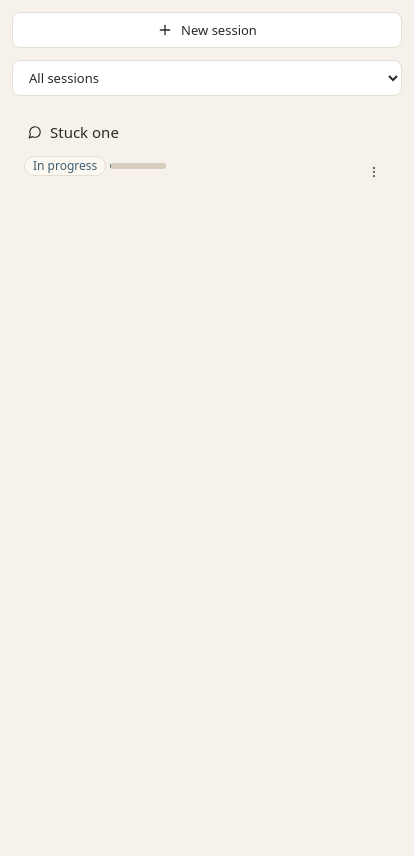
Test: Sessions › offers "Try again" on RE-OPENING a session that ended on the user's message (05 §4.1)
Click the button "Stuck one" at coordinates (84, 132), box left=16, top=112, right=398, bottom=152
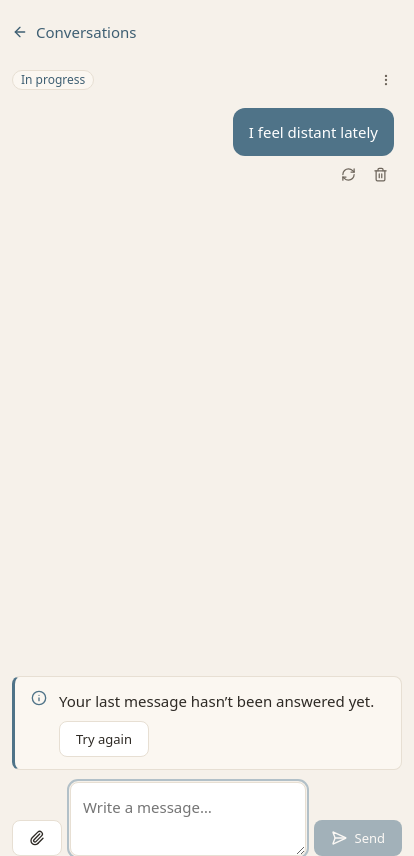
Expected: the text "Your last message hasn’t been answered yet." is shown, left=59, top=689, right=374, bottom=713
Click the button "Try again" at coordinates (104, 739), box left=59, top=721, right=149, bottom=757
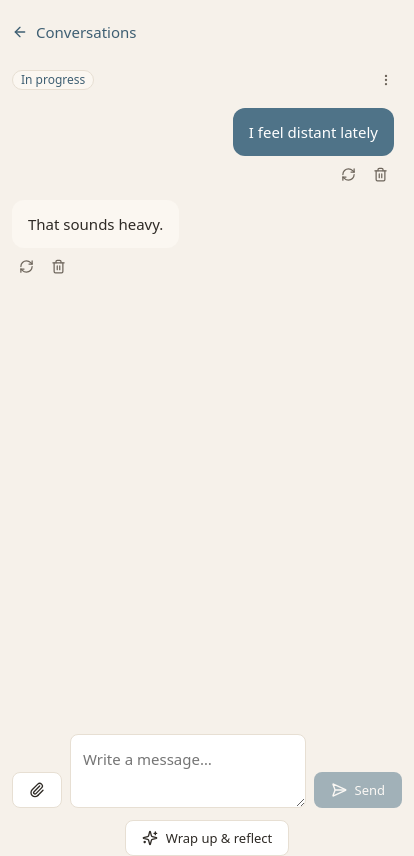
Expected: the text "That sounds heavy." is shown, left=28, top=212, right=163, bottom=236
Expected: the text "hasn’t been answered yet" is gone
